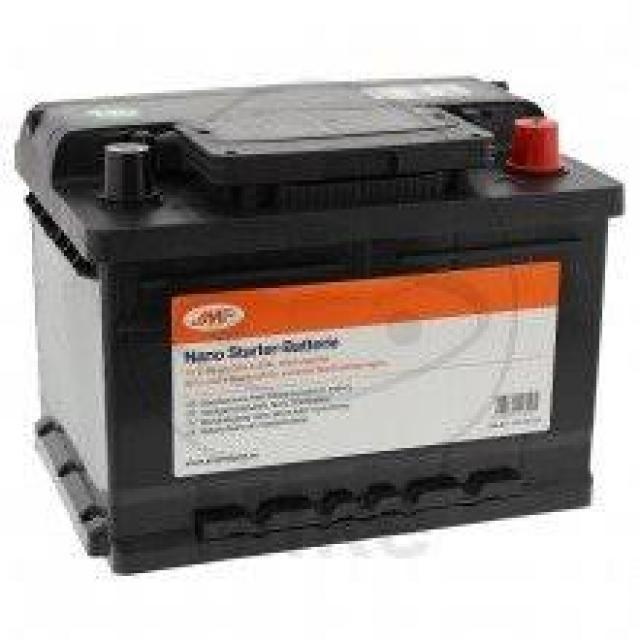battery: (13, 72, 627, 576)
